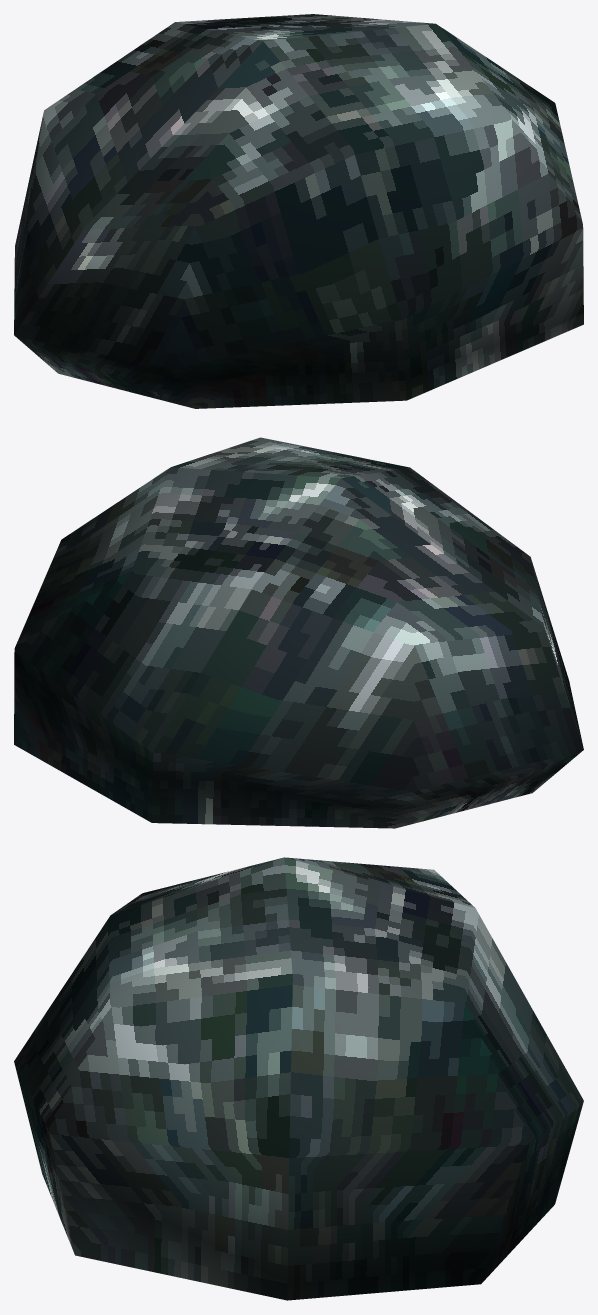
3 views of the same model, one above another, from view 1: azimuth 30°, elevation 25°; view 2: azimuth 150°, elevation 25°; view 3: azimuth 270°, elevation 25° (orthographic). The views are drawn at different scales.
Visible parts, largest first — view 1: MT_05-col; view 2: MT_05-col; view 3: MT_05-col.
Boxes of the visible parts, x1,y1,x2,y2 form: MT_05-col: [14, 14, 583, 408]; MT_05-col: [14, 437, 583, 828]; MT_05-col: [14, 857, 583, 1300].
Bounding box in the file's own units: 0.3067 × 0.1519 × 0.2539.
Materials: 1 (1 with a texture image).
